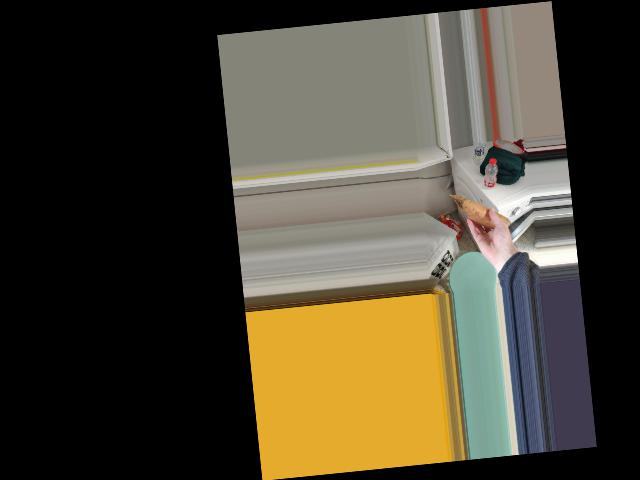sweet_potato: (465, 196, 500, 230)
